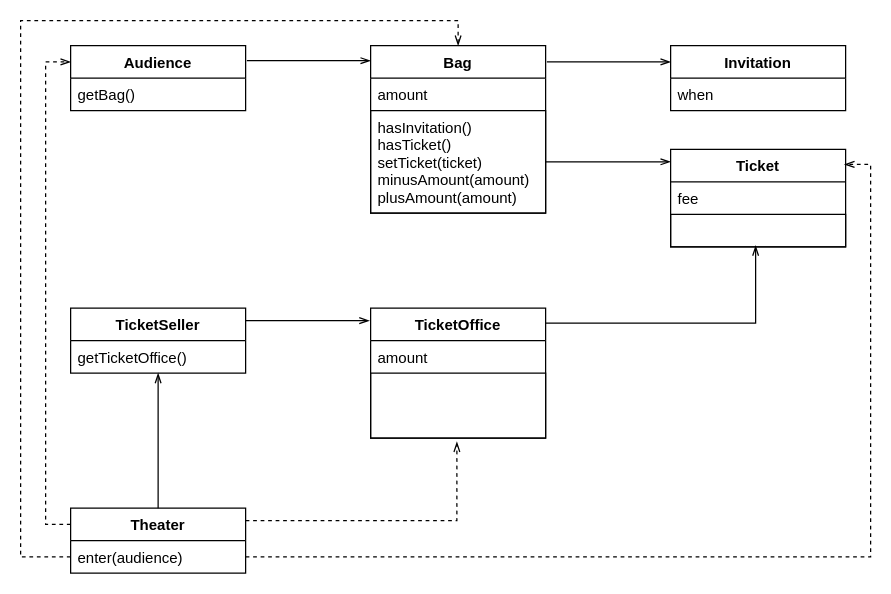
Some shapes in this 891 by 594 pixel diagram are drawn without their labels. The centre of each missing label's shape, as x and y in pixels:
getFee(): the point at 757,230
getTicket() minusAmount(amount) plusAmount(amount): the point at 457,405
